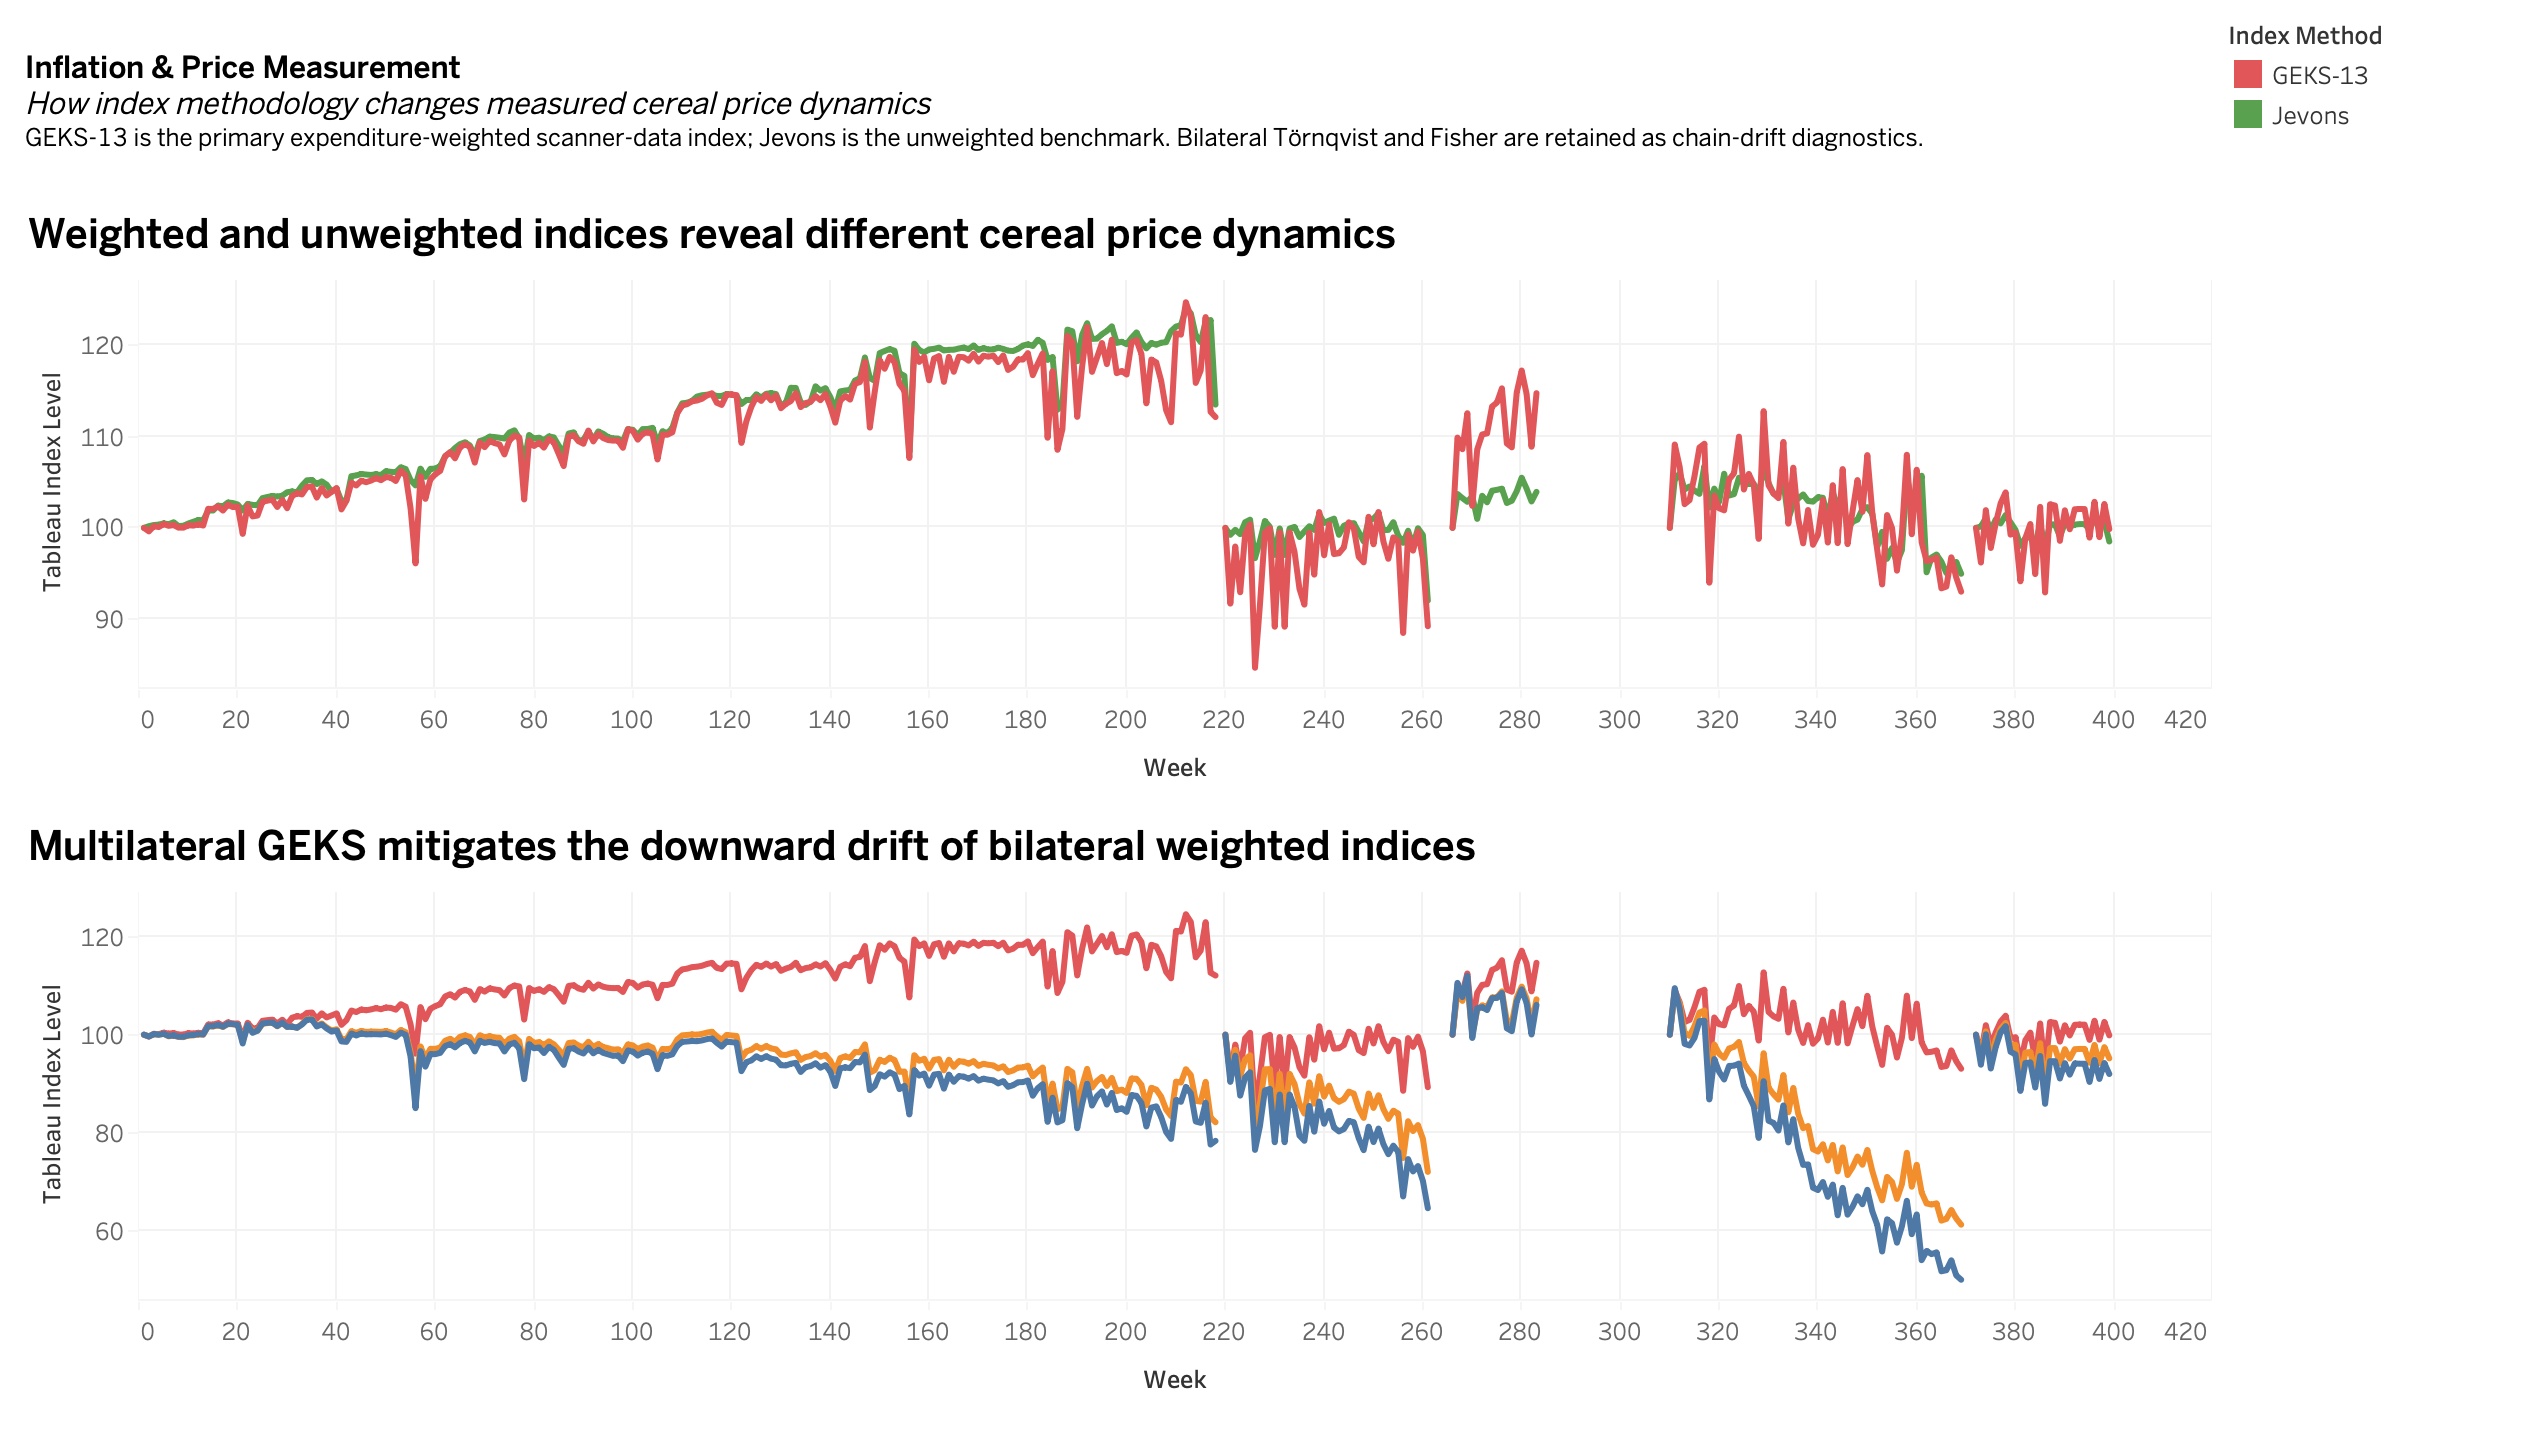

The dashboard page shown, as its layout file describes it:
{"tool":"tableau","page":{"name":"02 - Inflation & Price Measurement","canvas":[1280,720],"ordinal":1},"visuals":[{"type":"text","box":[8,8,1104,92]},{"type":"legend","title":"Index - GEKS vs Jevons","param":"[federated.1gan8jo09448nq12ugkkt1fg7fnk].[none:index_method:nk]","box":[1112,8,160,66]},{"type":"worksheet","title":"Index - GEKS vs Jevons","mark":"Automatic","rows":["tableau_index_level"],"cols":["week"],"box":[8,100,1104,306]},{"type":"worksheet","title":"Index - Chain Drift Diagnostics","mark":"Line","rows":["tableau_index_level"],"cols":["week"],"box":[8,406,1104,306]}]}

Visuals, with their boxes in screenshot pixels (x1, y1, x2, y2), scaled from the page's 1280x720 canvas onto the 2546x1432 screenshot:
text: box=[16, 16, 2212, 199]
"Index - GEKS vs Jevons" legend: box=[2212, 16, 2530, 147]
"Index - GEKS vs Jevons" worksheet: box=[16, 199, 2212, 807]
"Index - Chain Drift Diagnostics" worksheet (Line marks): box=[16, 807, 2212, 1416]
